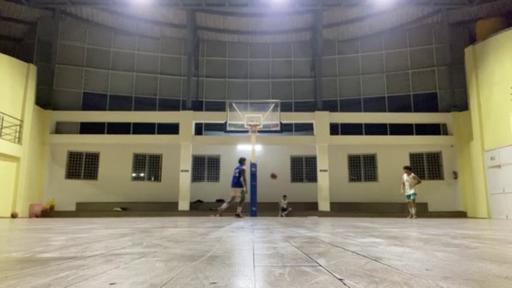ball: (270, 172, 278, 180)
human: (217, 156, 248, 218), (400, 166, 422, 220), (278, 194, 292, 216)
rim: (246, 124, 260, 136)
